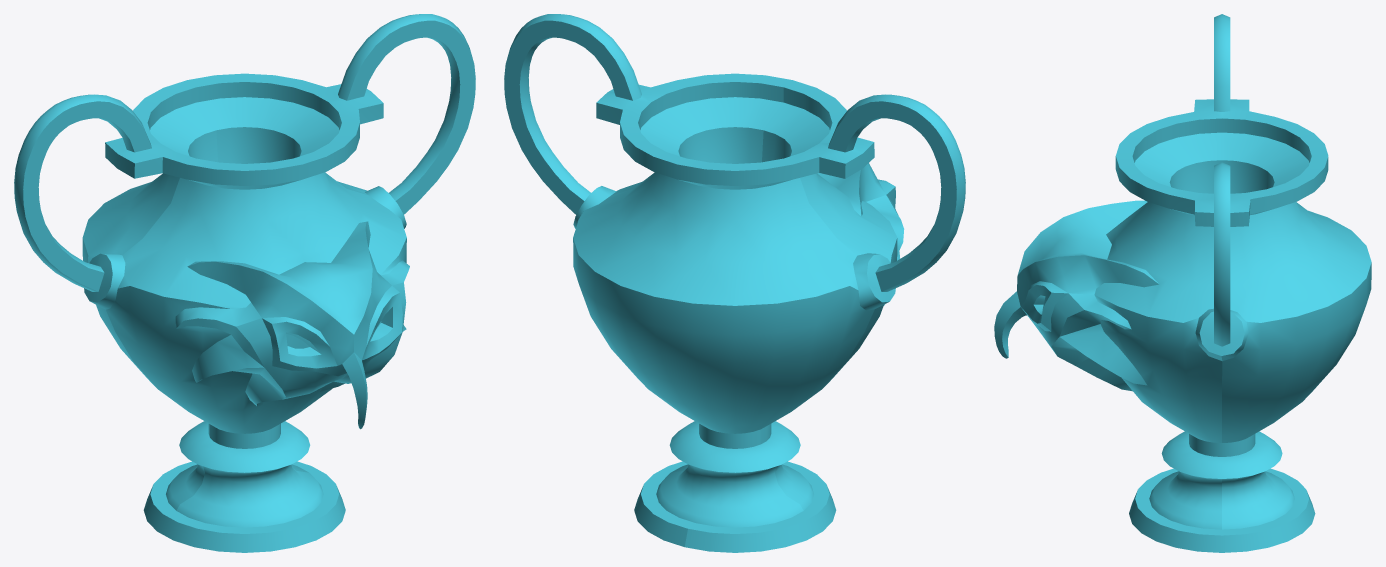
File: SM_Owl_Cup.fbx
3 views of the same model, side by side, from view 1: azimuth 30°, elevation 25°; view 2: azimuth 150°, elevation 25°; view 3: azimuth 270°, elevation 25° (orthographic). The views are drawn at different scales.
Visible parts, largest first — view 1: SM_Owl_Cup; view 2: SM_Owl_Cup; view 3: SM_Owl_Cup.
Boxes of the visible parts, box(x1,y1,x2,y2) form: SM_Owl_Cup: box(14, 14, 475, 552); SM_Owl_Cup: box(504, 14, 965, 552); SM_Owl_Cup: box(994, 14, 1371, 552).
Size of the model in its own units: 0.5793 by 0.5471 by 0.4469.
